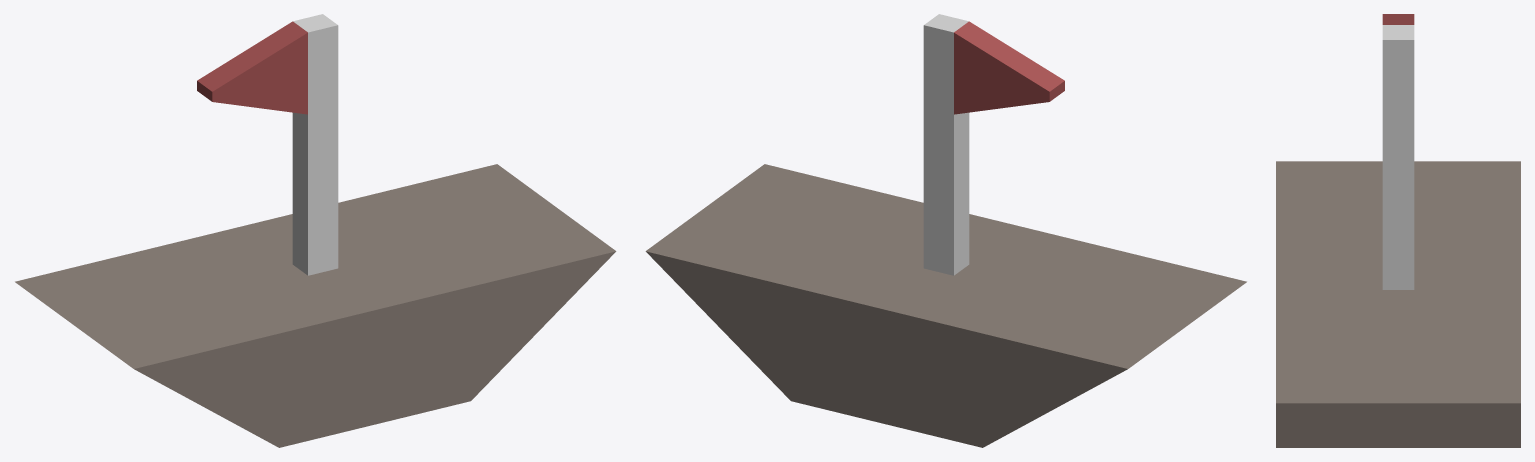
File: Bootje.fbx
3 renders of one model, left to right at view 1: azimuth 30°, elevation 25°; view 2: azimuth 150°, elevation 25°; view 3: azimuth 270°, elevation 25°, orthographic. The views are drawn at different scales.
Visible parts, largest first — view 1: Boot; view 2: Boot; view 3: Boot.
Boxes of the visible parts, x1,y1,x2,y2 form: Boot: (15, 14, 616, 447); Boot: (645, 14, 1246, 447); Boot: (1276, 14, 1520, 447).
Bounding box in the file's own units: 1 × 0.708 × 0.4278.
